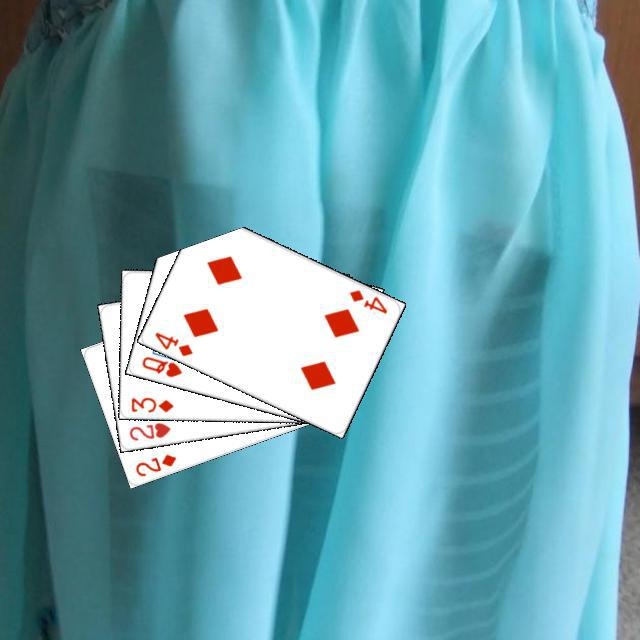2d: (130, 449, 178, 478)
2h: (124, 417, 172, 442)
3d: (126, 392, 175, 414)
4d: (150, 327, 194, 358), (344, 285, 389, 315)
Qh: (137, 351, 184, 379)
